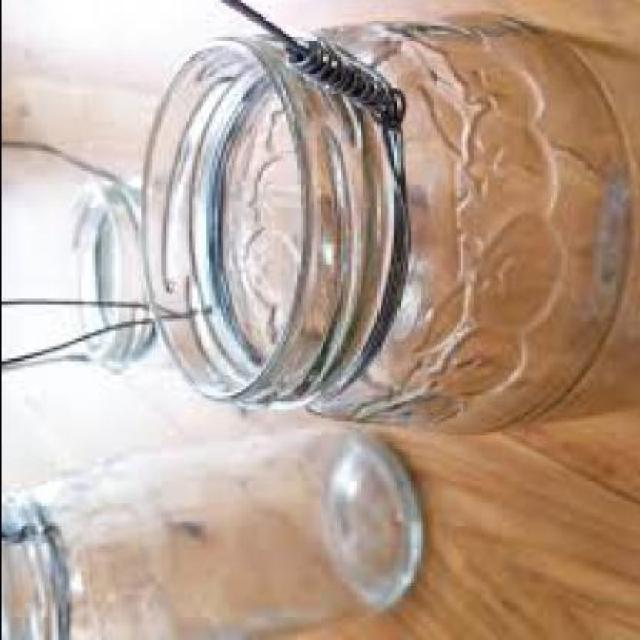GLASS: (136, 20, 632, 438), (1, 440, 414, 638), (1, 142, 154, 376)
